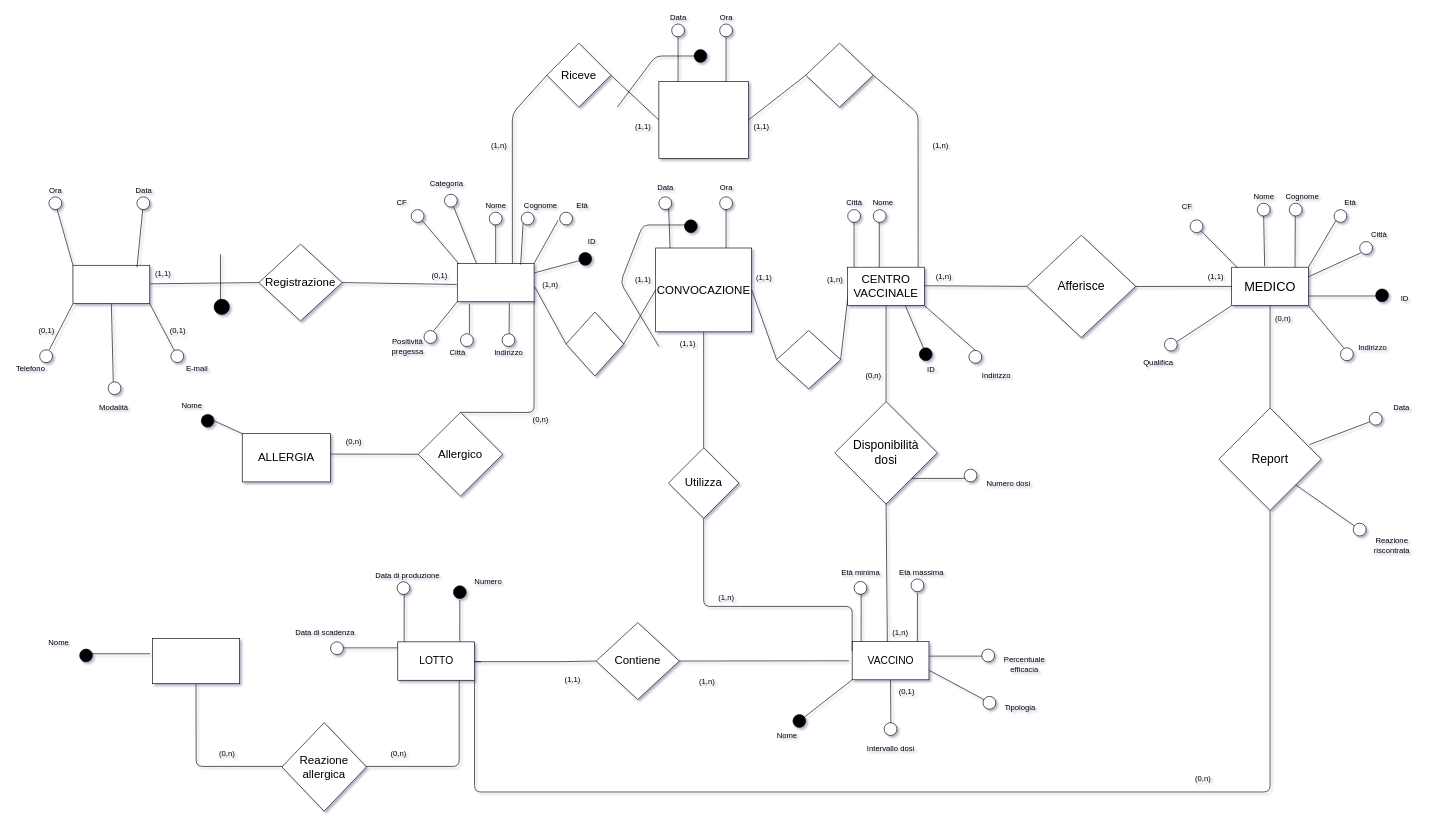
Some shapes in this 1429 by 826 pixel diagram are drawn without their labels. Here are the shapes that lost their labels. From the top down, the centre of each, then its label:
At point (839, 75): "Eroga".
At point (703, 119): "VACCINAZIONE".
At point (111, 284): "PRE-ADESIONE".
At point (495, 282): "VACCINANDO".
At point (594, 343): "Ottiene".
At point (808, 359): "Convoca".
At point (196, 661): "EFFETTO ALLERGICO".
